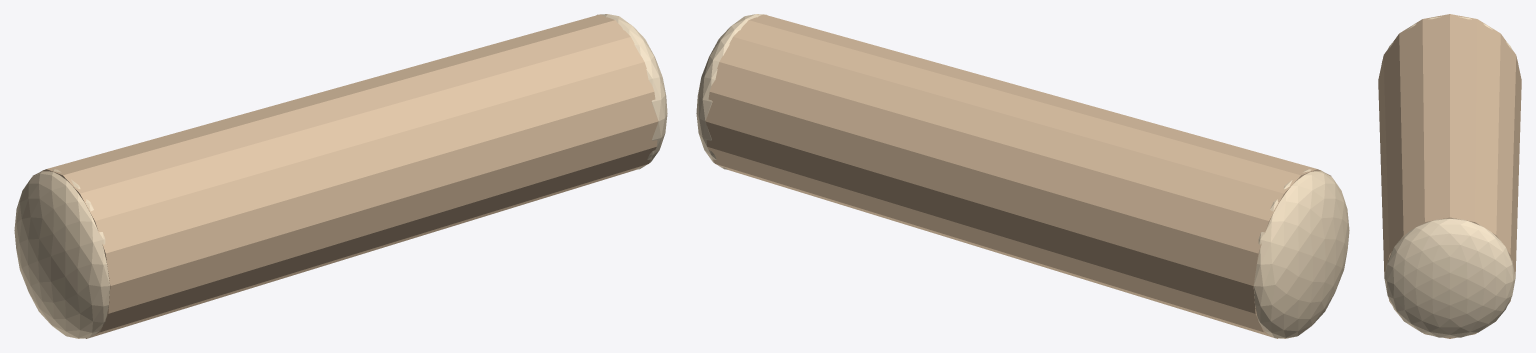
The model's file is shore_log.glb.
3 renders of one model, left to right at view 1: azimuth 30°, elevation 25°; view 2: azimuth 150°, elevation 25°; view 3: azimuth 270°, elevation 25°, orthographic. The views are drawn at different scales.
Parts seen in each view (by area): view 1: shore_log_00, shore_log_01, shore_log_02; view 2: shore_log_00, shore_log_01, shore_log_02; view 3: shore_log_00, shore_log_02, shore_log_01.
Boxes of the visible parts, left/top/right/bottom form: shore_log_00: left=32, top=14, right=658, bottom=338; shore_log_01: left=14, top=169, right=109, bottom=338; shore_log_02: left=597, top=14, right=667, bottom=169; shore_log_00: left=705, top=14, right=1331, bottom=338; shore_log_01: left=1254, top=169, right=1349, bottom=338; shore_log_02: left=696, top=14, right=766, bottom=169; shore_log_00: left=1378, top=14, right=1521, bottom=338; shore_log_02: left=1384, top=218, right=1515, bottom=337; shore_log_01: left=1381, top=16, right=1518, bottom=63.
Bounding box in the file's own units: 1.4 × 0.3948 × 0.35.
